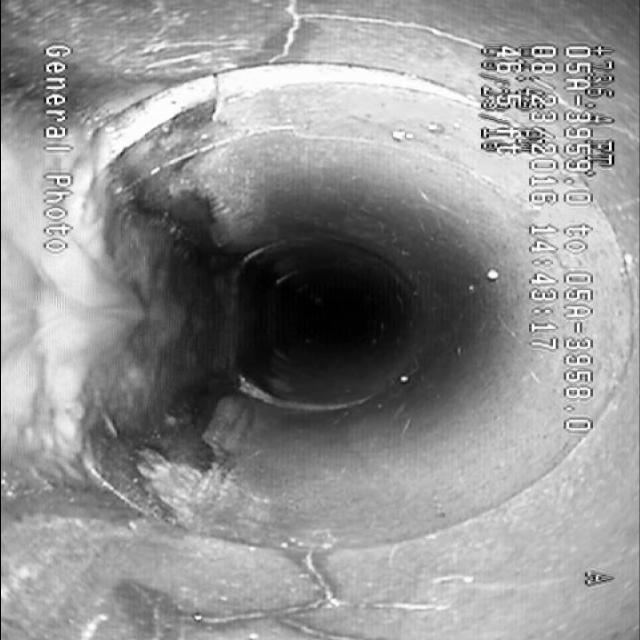Fracture: (205, 501, 406, 639)
